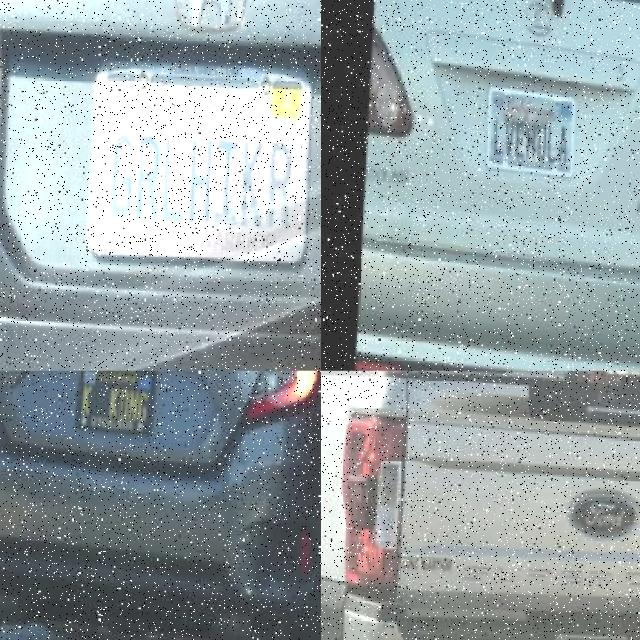licenseplate: (85, 62, 313, 269), (482, 92, 578, 178), (76, 371, 156, 440)
